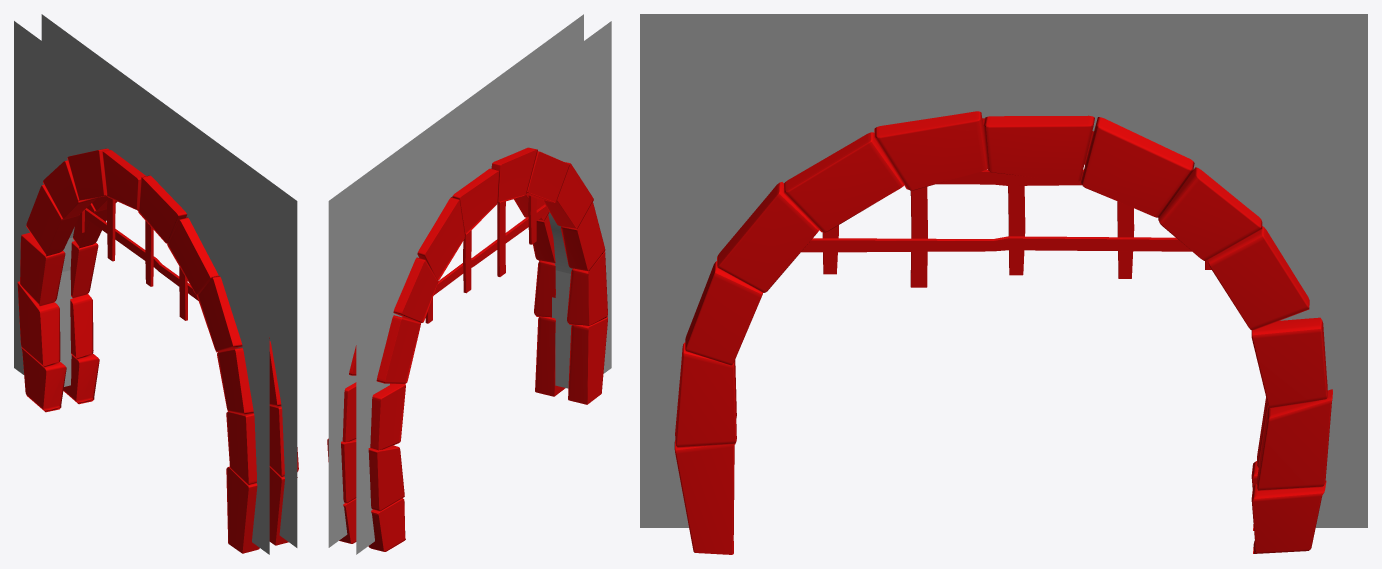
The model's file is SM_Pillar_Grated.fbx.
3 views of the same model, side by side, from view 1: azimuth 30°, elevation 25°; view 2: azimuth 150°, elevation 25°; view 3: azimuth 270°, elevation 25° (orthographic). The views are drawn at different scales.
Visible parts, largest first — view 1: polySurface6426; view 2: polySurface6426; view 3: polySurface6426.
Boxes of the visible parts, x1,y1,x2,y2 form: polySurface6426: (14, 14, 298, 554); polySurface6426: (327, 14, 611, 554); polySurface6426: (640, 14, 1367, 554).
Bounding box in the file's own units: 99.71 × 623 × 800.
